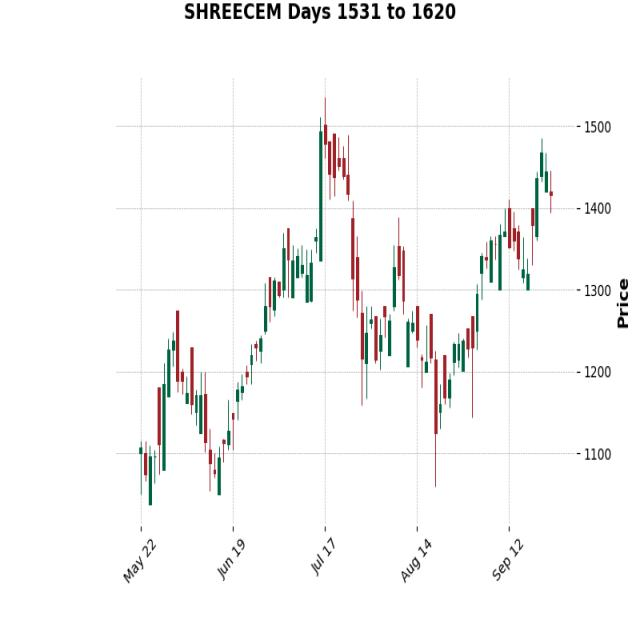flag-and-pole: (210, 203, 308, 510)
